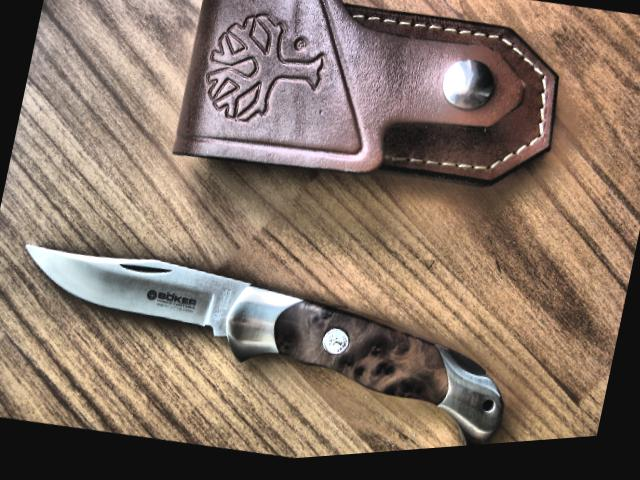knife: (0, 199, 533, 480)
